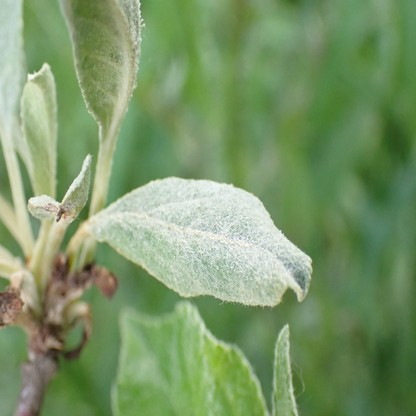powdery_mildew: (90, 177, 313, 304), (60, 0, 140, 141), (119, 303, 214, 416), (20, 61, 57, 202), (0, 1, 24, 131), (273, 324, 297, 416), (61, 153, 91, 217), (28, 196, 61, 219)
